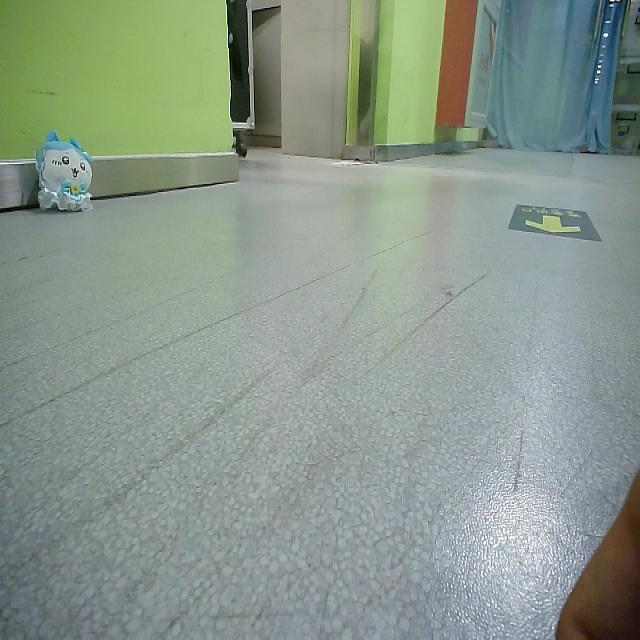xiaoba: (38, 130, 94, 212)
